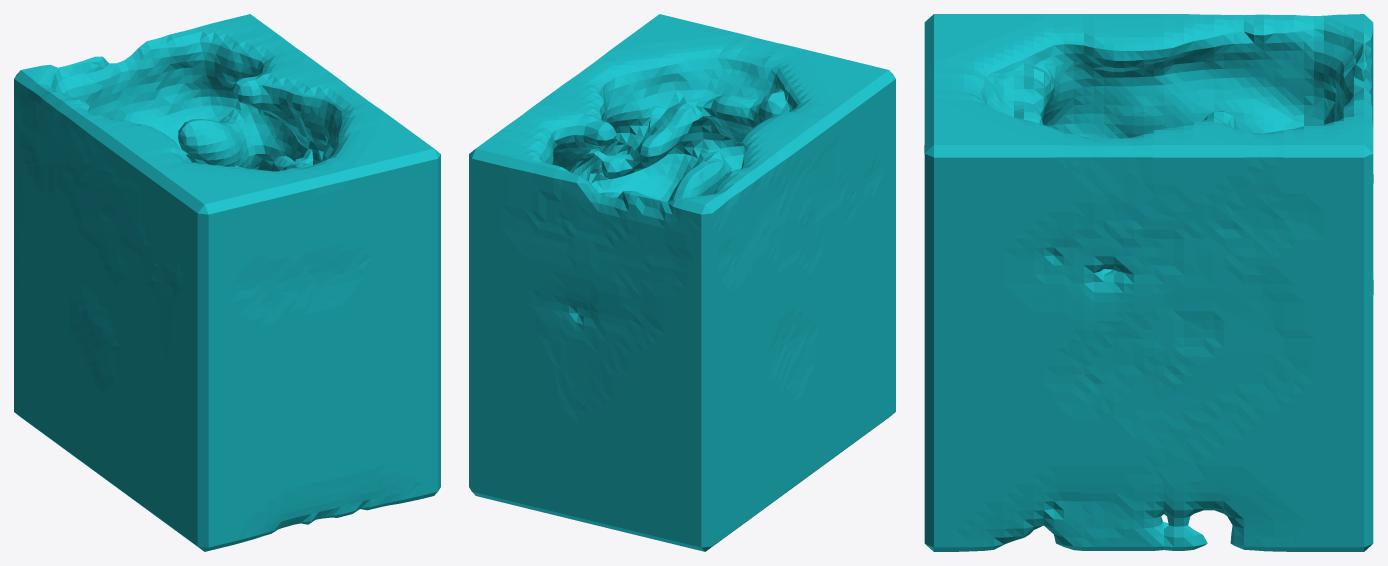
The picture shows the model from 3 angles, left to right: view 1: azimuth 30°, elevation 25°; view 2: azimuth 150°, elevation 25°; view 3: azimuth 270°, elevation 25°; orthographic projection. The views are drawn at different scales.
Visible parts, largest first — view 1: Liquid_Domain; view 2: Liquid_Domain; view 3: Liquid_Domain.
Part boxes in pixels (x1,y1,x2,y2): Liquid_Domain: [14, 14, 440, 551]; Liquid_Domain: [469, 14, 895, 551]; Liquid_Domain: [924, 14, 1373, 551].
Size of the model in its own units: 79.1 by 108 by 108.
